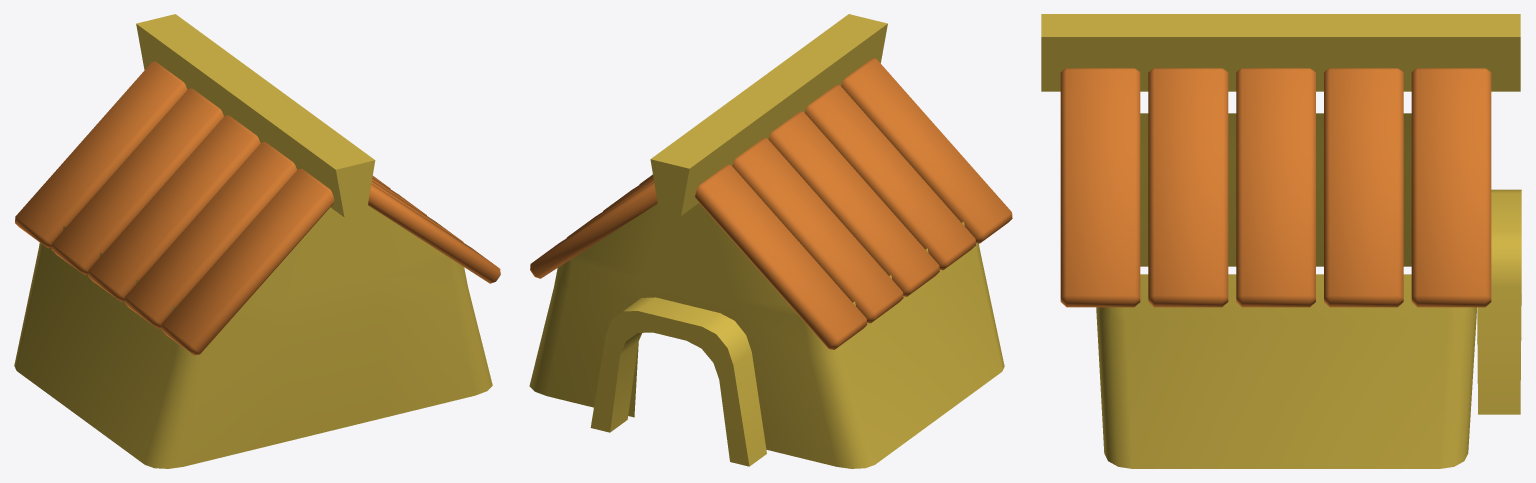
File: house_gazelle.fbx
The picture shows the model from 3 angles, left to right: view 1: azimuth 30°, elevation 25°; view 2: azimuth 150°, elevation 25°; view 3: azimuth 270°, elevation 25°; orthographic projection. The views are drawn at different scales.
Parts seen in each view (by area): view 1: house_gazelle; view 2: house_gazelle; view 3: house_gazelle.
Boxes of the visible parts, x1,y1,x2,y2 form: house_gazelle: [14, 14, 500, 468]; house_gazelle: [529, 14, 1012, 468]; house_gazelle: [1041, 14, 1521, 468].
Size of the model in its own units: 763 by 602 by 765.
